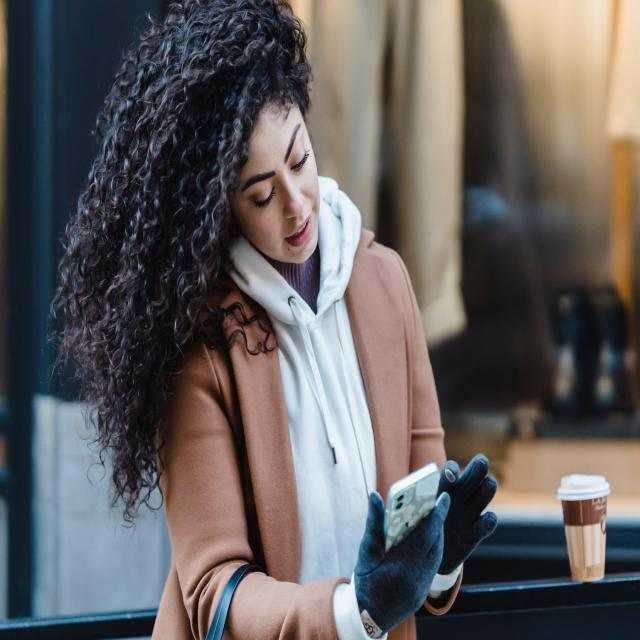cup: (556, 475, 609, 585)
